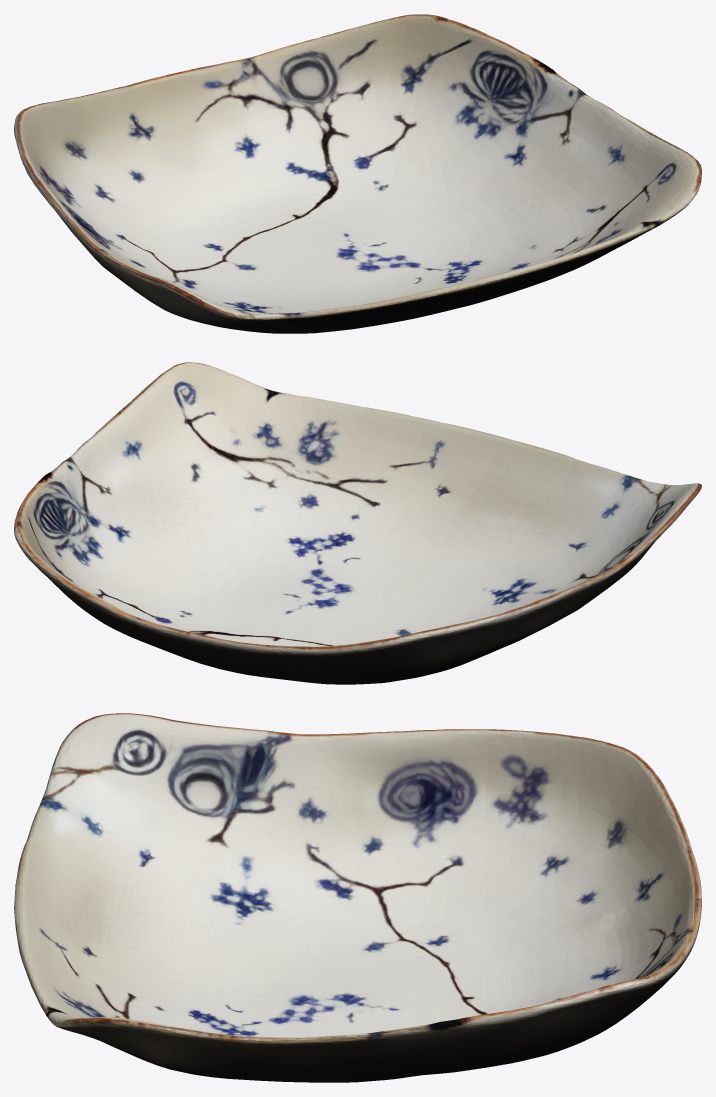
Rendered from ceramic-serving-platter-japanese.jpeg.glb.
3 renders of one model, top to bottom at view 1: azimuth 30°, elevation 25°; view 2: azimuth 150°, elevation 25°; view 3: azimuth 270°, elevation 25°, orthographic. The views are drawn at different scales.
Visible parts, largest first — view 1: world; view 2: world; view 3: world.
Boxes of the visible parts, x1,y1,x2,y2 form: world: (14,14,701,333); world: (14,362,701,684); world: (14,713,701,1082).
Bounding box in the file's own units: 0.9928 × 0.2095 × 0.9257.
1 material, 1 textured.
